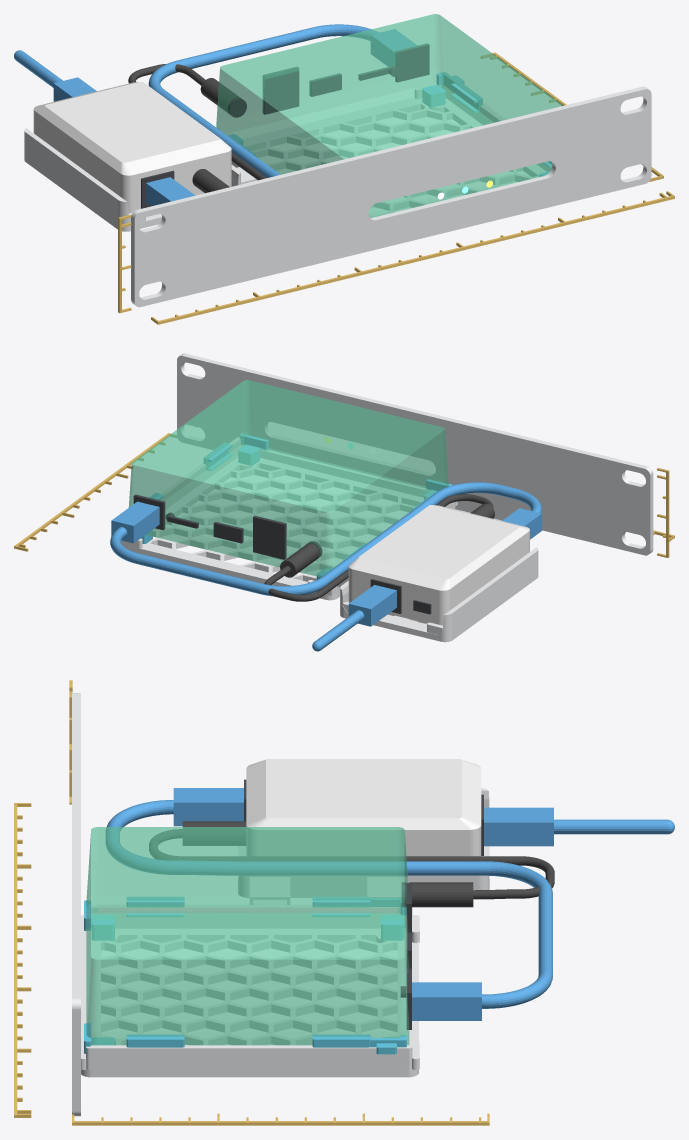
The model's file is home-assistant-green-rack-preview.glb.
3 renders of one model, top to bottom at view 1: azimuth 30°, elevation 25°; view 2: azimuth 150°, elevation 25°; view 3: azimuth 270°, elevation 25°, orthographic. The views are drawn at different scales.
Parts seen in each view (by area): view 1: White rack mount, Home Assistant Green, TP-Link TL-PD30G-M2, Green tray — standard, Internal Ethernet cable, 10 mm dimension rulers, Home Assistant Green connector faces, TP-Link cradle side walls, DC cable, Green retention — segmented rails + rear latch, Incoming PoE cable, TP-Link cradle floor (+1 smaller); view 2: Home Assistant Green, White rack mount, Green tray — standard, TP-Link TL-PD30G-M2, Internal Ethernet cable, TP-Link cradle side walls, Home Assistant Green connector faces, DC cable, Incoming PoE cable, Green retention — segmented rails + rear latch, 10 mm dimension rulers, TP-Link cradle floor (+1 smaller); view 3: Home Assistant Green, Green tray — standard, TP-Link TL-PD30G-M2, Internal Ethernet cable, DC cable, Green retention — segmented rails + rear latch, White rack mount, 10 mm dimension rulers, Incoming PoE cable, TP-Link cradle side walls, Home Assistant Green connector faces, TP-Link cradle floor.
Boxes of the visible parts, x1,y1,x2,y2 form: White rack mount: [131, 86, 651, 307]; Home Assistant Green: [216, 14, 562, 217]; TP-Link TL-PD30G-M2: [33, 81, 231, 213]; Green tray — standard: [226, 83, 551, 217]; Internal Ethernet cable: [146, 24, 416, 206]; 10 mm dimension rulers: [118, 52, 674, 324]; Home Assistant Green connector faces: [227, 43, 429, 117]; TP-Link cradle side walls: [24, 128, 240, 224]; DC cable: [128, 64, 266, 193]; Green retention — segmented rails + rear latch: [217, 72, 552, 176]; Incoming PoE cable: [14, 50, 96, 101]; TP-Link cradle floor: [24, 155, 161, 231]; Home Assistant Green: [128, 380, 448, 577]; White rack mount: [177, 353, 653, 587]; Green tray — standard: [121, 437, 457, 600]; TP-Link TL-PD30G-M2: [348, 505, 529, 625]; Internal Ethernet cable: [110, 482, 541, 596]; TP-Link cradle side walls: [340, 547, 538, 636]; Home Assistant Green connector faces: [133, 494, 322, 559]; DC cable: [264, 494, 494, 601]; Incoming PoE cable: [312, 585, 396, 651]; Green retention — segmented rails + rear latch: [141, 433, 452, 579]; 10 mm dimension rulers: [14, 433, 674, 557]; TP-Link cradle floor: [340, 572, 538, 642]; Home Assistant Green: [86, 827, 409, 1045]; Green tray — standard: [81, 905, 419, 1077]; TP-Link TL-PD30G-M2: [246, 759, 481, 856]; Internal Ethernet cable: [106, 788, 552, 1020]; DC cable: [149, 821, 554, 907]; Green retention — segmented rails + rear latch: [84, 897, 406, 1054]; White rack mount: [72, 693, 407, 1116]; 10 mm dimension rulers: [14, 680, 489, 1125]; Incoming PoE cable: [484, 807, 674, 846]; TP-Link cradle side walls: [238, 788, 489, 890]; Home Assistant Green connector faces: [400, 882, 411, 1029]; TP-Link cradle floor: [238, 846, 489, 897].
Size of what is drawn, in the model's own units: 268 by 44.45 by 227.
